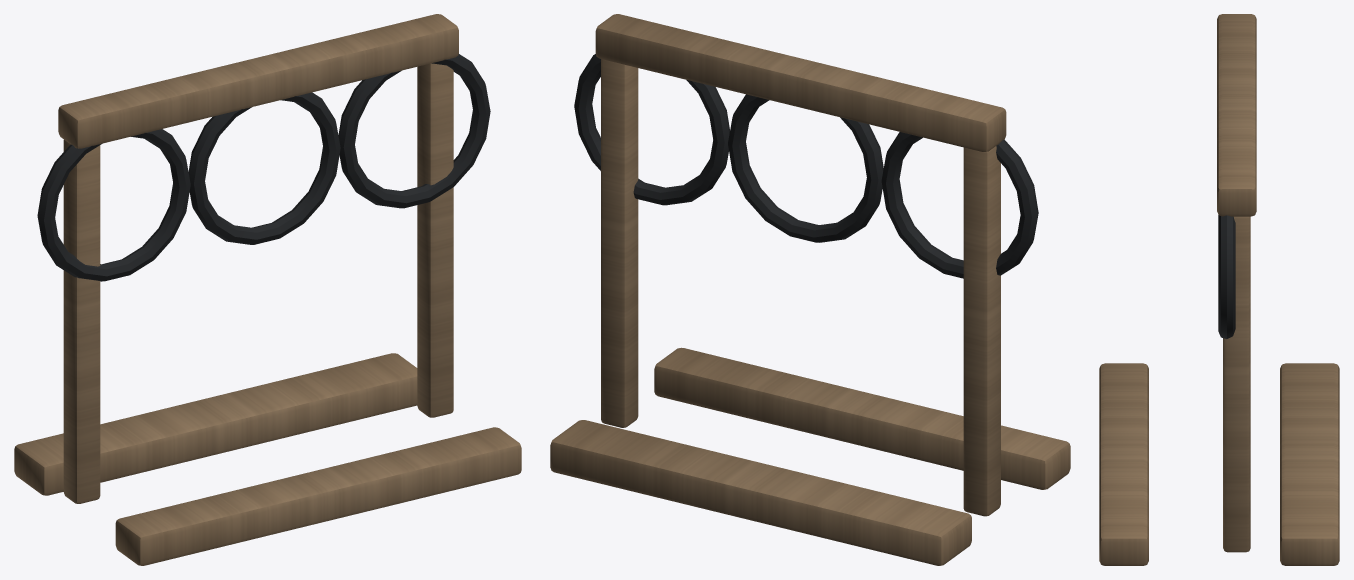
Rendered from bag_stand_premium.glb.
3 views of the same model, side by side, from view 1: azimuth 30°, elevation 25°; view 2: azimuth 150°, elevation 25°; view 3: azimuth 270°, elevation 25° (orthographic). The views are drawn at different scales.
Visible parts, largest first — view 1: BagStand_FrontRail, BagStand_BaseRail, BagStand_TopRail, BagStand_Upright_-1, BagStand_Upright_1, BagStand_Rest_1, BagStand_Rest_2, BagStand_Rest_3; view 2: BagStand_BaseRail, BagStand_FrontRail, BagStand_TopRail, BagStand_Upright_-1, BagStand_Upright_1, BagStand_Rest_2, BagStand_Rest_1, BagStand_Rest_3; view 3: BagStand_BaseRail, BagStand_FrontRail, BagStand_TopRail, BagStand_Upright_1, BagStand_Rest_3.
Boxes of the visible parts, box(x1,y1,x2,y2) form: BagStand_FrontRail: box(115, 427, 521, 565); BagStand_BaseRail: box(14, 353, 417, 495); BagStand_TopRail: box(58, 14, 458, 148); BagStand_Upright_-1: box(63, 140, 100, 503); BagStand_Upright_1: box(417, 63, 453, 417); BagStand_Rest_1: box(37, 129, 190, 281); BagStand_Rest_2: box(188, 92, 340, 244); BagStand_Rest_3: box(338, 54, 490, 208); BagStand_BaseRail: box(550, 420, 971, 565); BagStand_FrontRail: box(654, 347, 1070, 489); BagStand_TopRail: box(595, 14, 1006, 151); BagStand_Upright_-1: box(963, 146, 1000, 516); BagStand_Upright_1: box(601, 59, 638, 427); BagStand_Rest_2: box(728, 94, 883, 242); BagStand_Rest_1: box(881, 132, 1038, 278); BagStand_Rest_3: box(574, 54, 729, 205); BagStand_BaseRail: box(1280, 363, 1339, 565); BagStand_FrontRail: box(1099, 363, 1148, 565); BagStand_TopRail: box(1217, 14, 1256, 216); BagStand_Upright_1: box(1223, 216, 1250, 552); BagStand_Rest_3: box(1218, 215, 1235, 338).
Size of what is drawn, in the model's own units: 0.7984 by 0.6825 by 0.3915.
Materials: 2 (1 with a texture image).
